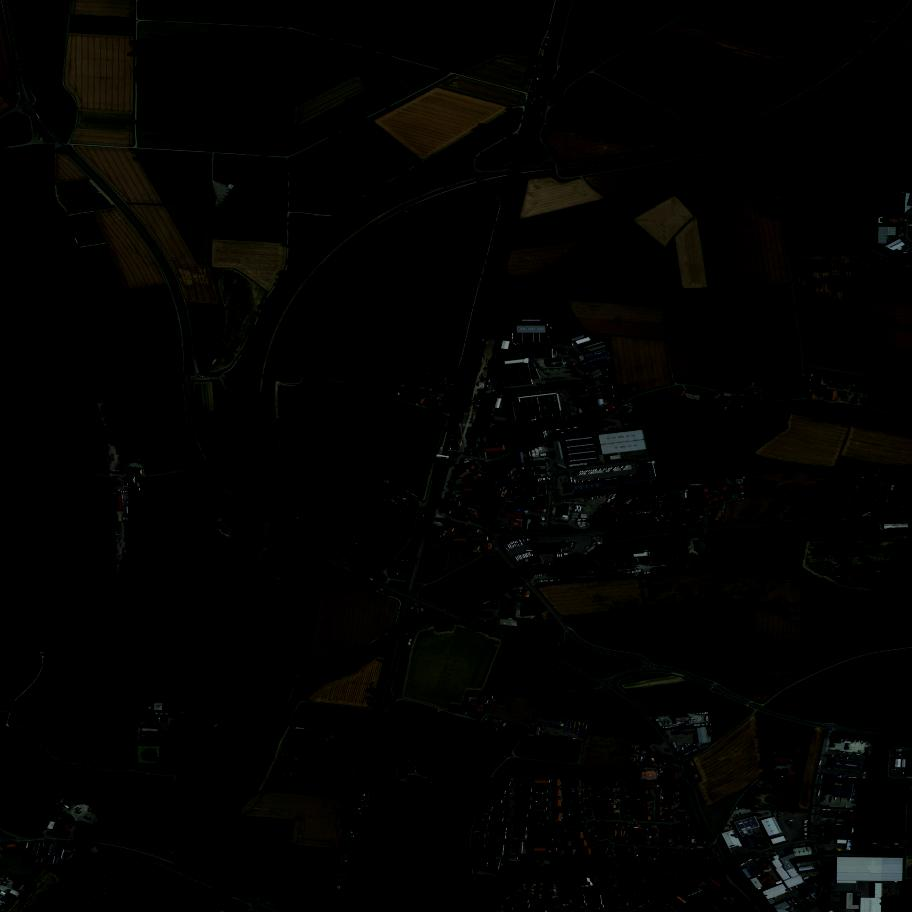storage-tank: (139, 746, 160, 764), (159, 748, 178, 764), (154, 703, 164, 711), (171, 730, 179, 738), (166, 730, 173, 737), (147, 708, 152, 710)
